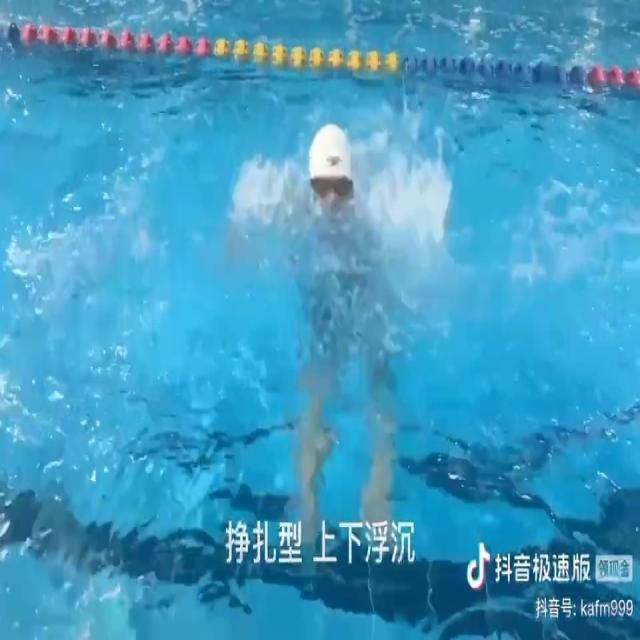Drowning: (250, 121, 419, 513)
